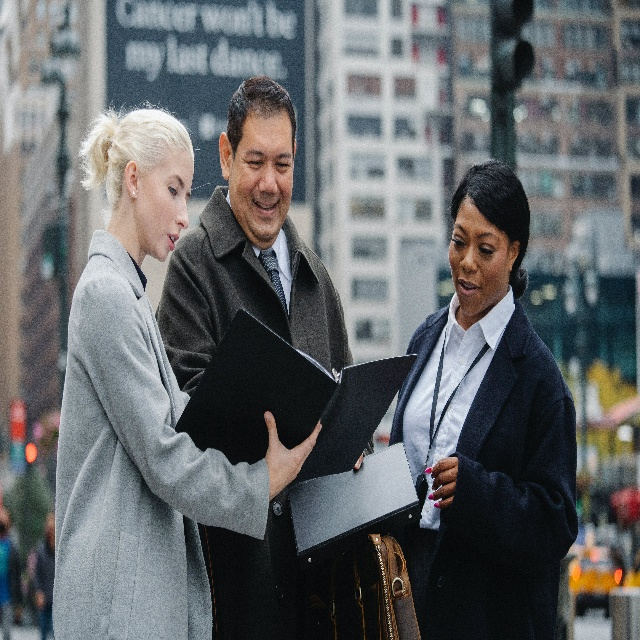Sin_guantes: (262, 408, 323, 503), (423, 453, 460, 512)
